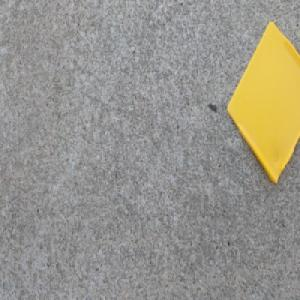PlasticPart: (224, 19, 300, 183)
